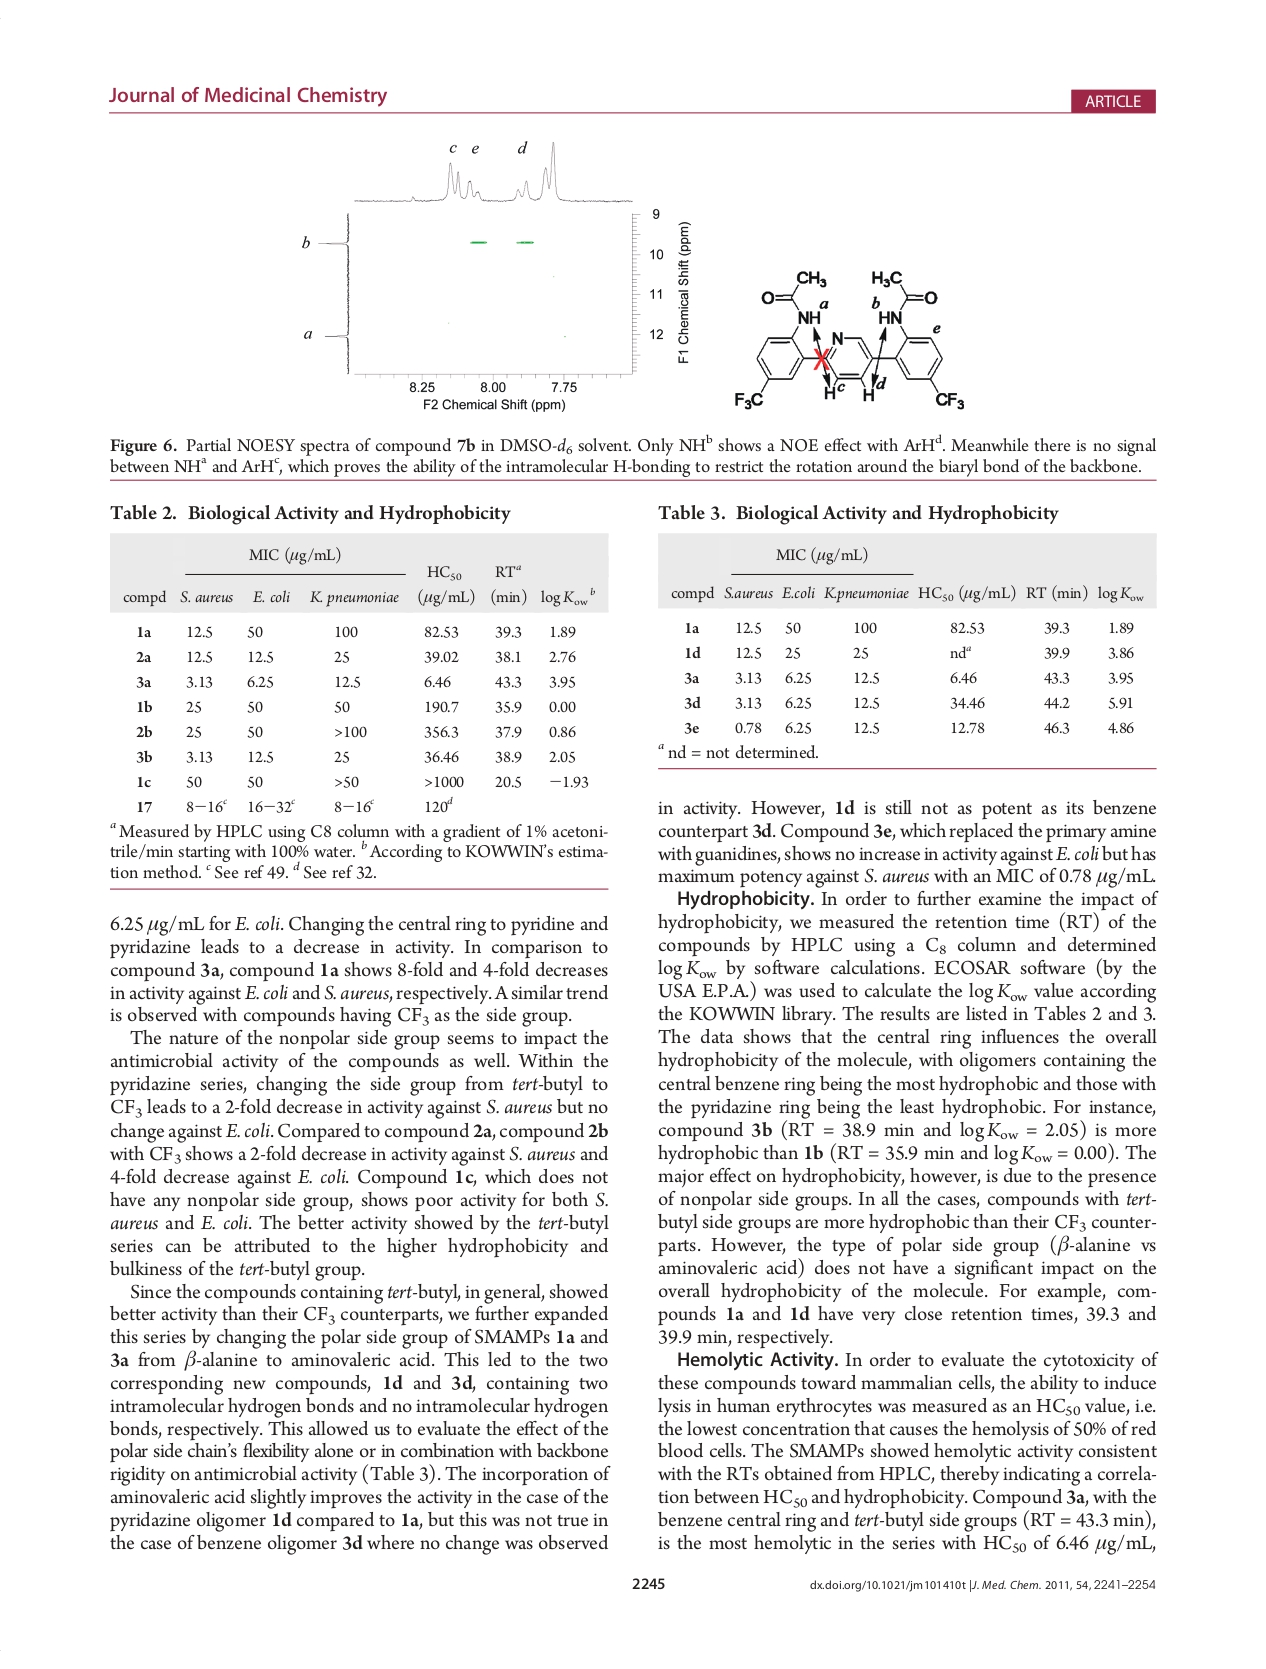exist_molecular: (727, 266, 969, 414)
